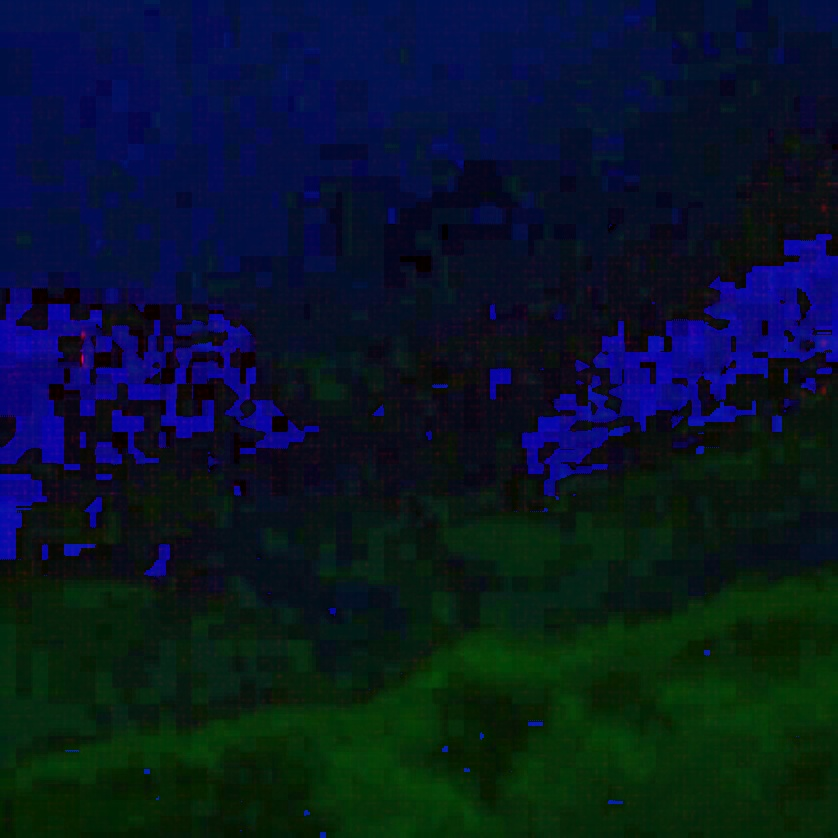rip_current: (204, 234, 544, 619)
